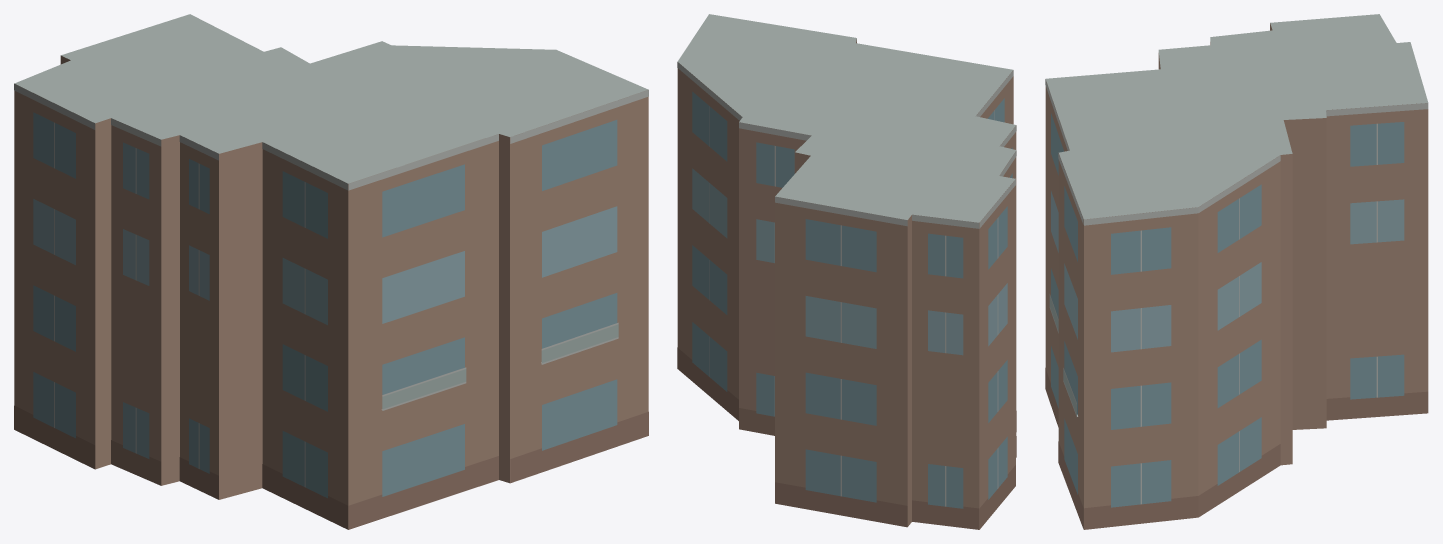
The model's file is survey-upis-33031555.glb.
3 views of the same model, side by side, from view 1: azimuth 30°, elevation 25°; view 2: azimuth 150°, elevation 25°; view 3: azimuth 270°, elevation 25° (orthographic). The views are drawn at different scales.
Visible parts, largest first — view 1: survey-upis-33031555.tmp; view 2: survey-upis-33031555.tmp; view 3: survey-upis-33031555.tmp.
Part boxes in pixels (bbox=[...]): survey-upis-33031555.tmp: bbox=[14, 14, 648, 529]; survey-upis-33031555.tmp: bbox=[677, 14, 1016, 529]; survey-upis-33031555.tmp: bbox=[1045, 14, 1428, 529].
Bounding box in the file's own units: 17.33 × 12.2 × 13.65.
